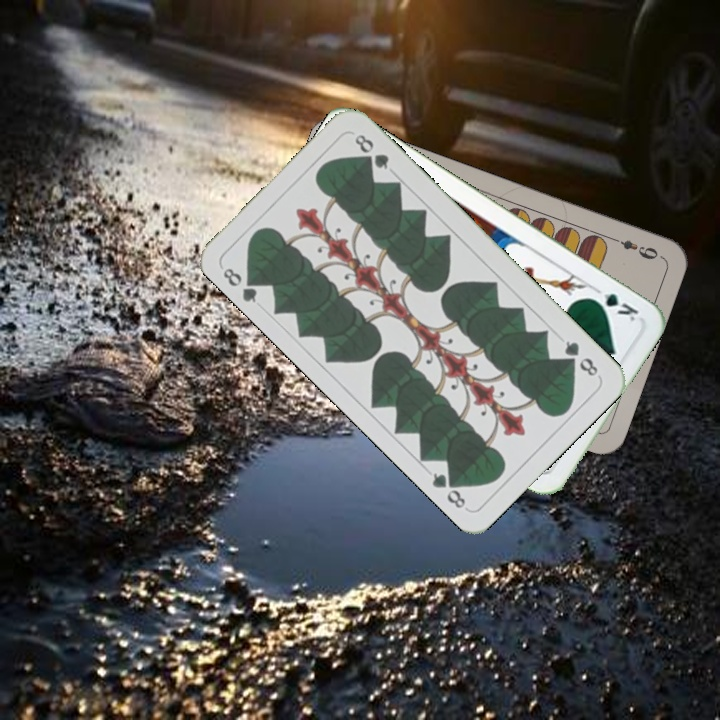E9: (607, 233, 661, 262)
G8: (218, 263, 263, 306), (560, 336, 601, 379)
GK: (585, 289, 642, 324)
